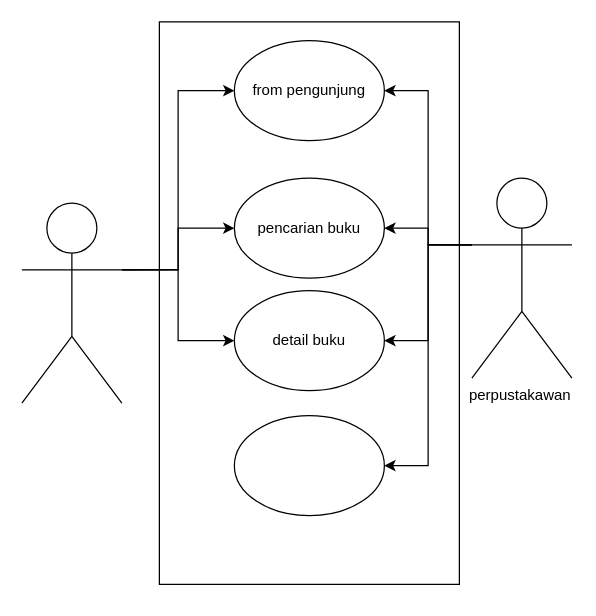
This 596x616 diagram has some shape labels left out. Here are the shapes that lost their labels. From the top down, the box of each, then its label:
(21, 202, 122, 403): pengunjung
(233, 414, 384, 516): laporan statistik
